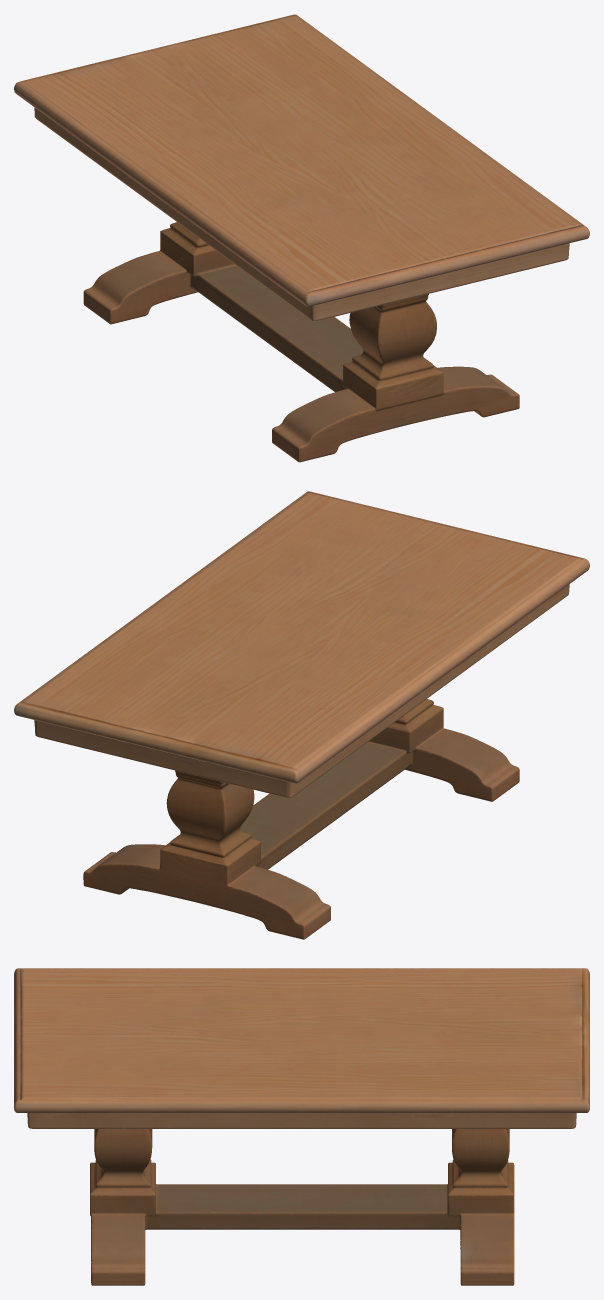
File: detailed_realistic_model_grandoaktable_13.glb
3 renders of one model, top to bottom at view 1: azimuth 30°, elevation 25°; view 2: azimuth 150°, elevation 25°; view 3: azimuth 270°, elevation 25°, orthographic. The views are drawn at different scales.
Visible parts, largest first — view 1: tripo_node_ef91266a-d69e-4cee-93d6-619d7560751a; view 2: tripo_node_ef91266a-d69e-4cee-93d6-619d7560751a; view 3: tripo_node_ef91266a-d69e-4cee-93d6-619d7560751a.
Boxes of the visible parts, x1,y1,x2,y2 form: tripo_node_ef91266a-d69e-4cee-93d6-619d7560751a: (14,14,589,462); tripo_node_ef91266a-d69e-4cee-93d6-619d7560751a: (14,491,589,939); tripo_node_ef91266a-d69e-4cee-93d6-619d7560751a: (14,968,589,1285).
Bounding box in the file's own units: 0.5588 × 0.3837 × 1.
1 material, 1 textured.
